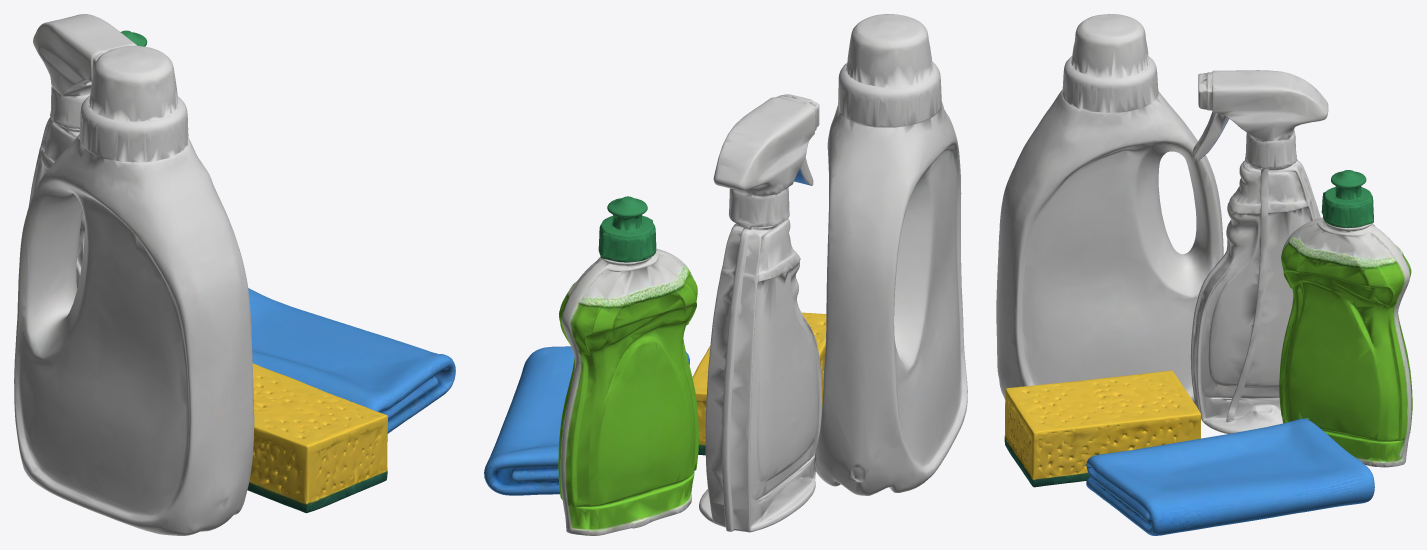
The model's file is aseo.glb.
The picture shows the model from 3 angles, left to right: view 1: azimuth 30°, elevation 25°; view 2: azimuth 150°, elevation 25°; view 3: azimuth 270°, elevation 25°; orthographic projection. The views are drawn at different scales.
Parts seen in each view (by area): view 1: tripo_node_ac71381b-52bf-458e-9869-96a63c30f9dc; view 2: tripo_node_ac71381b-52bf-458e-9869-96a63c30f9dc; view 3: tripo_node_ac71381b-52bf-458e-9869-96a63c30f9dc.
Boxes of the visible parts, left/top/right/bottom form: tripo_node_ac71381b-52bf-458e-9869-96a63c30f9dc: left=14, top=14, right=455, bottom=535; tripo_node_ac71381b-52bf-458e-9869-96a63c30f9dc: left=484, top=14, right=967, bottom=535; tripo_node_ac71381b-52bf-458e-9869-96a63c30f9dc: left=996, top=14, right=1412, bottom=535.
Size of the model in its own units: 0.9922 by 0.9999 by 0.9965.
1 material, 1 textured.
